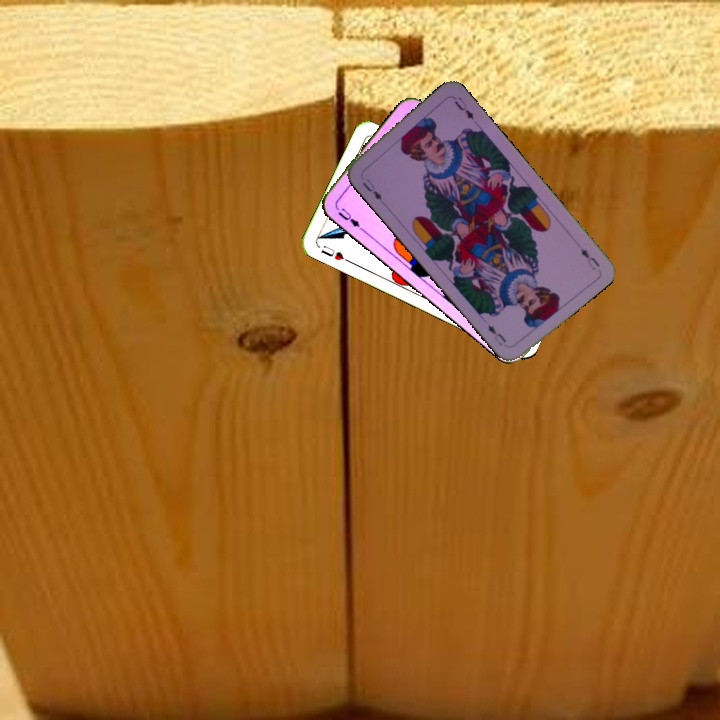EU: (332, 202, 366, 233), (358, 174, 385, 203), (577, 244, 602, 273)
HU: (316, 241, 352, 265)
